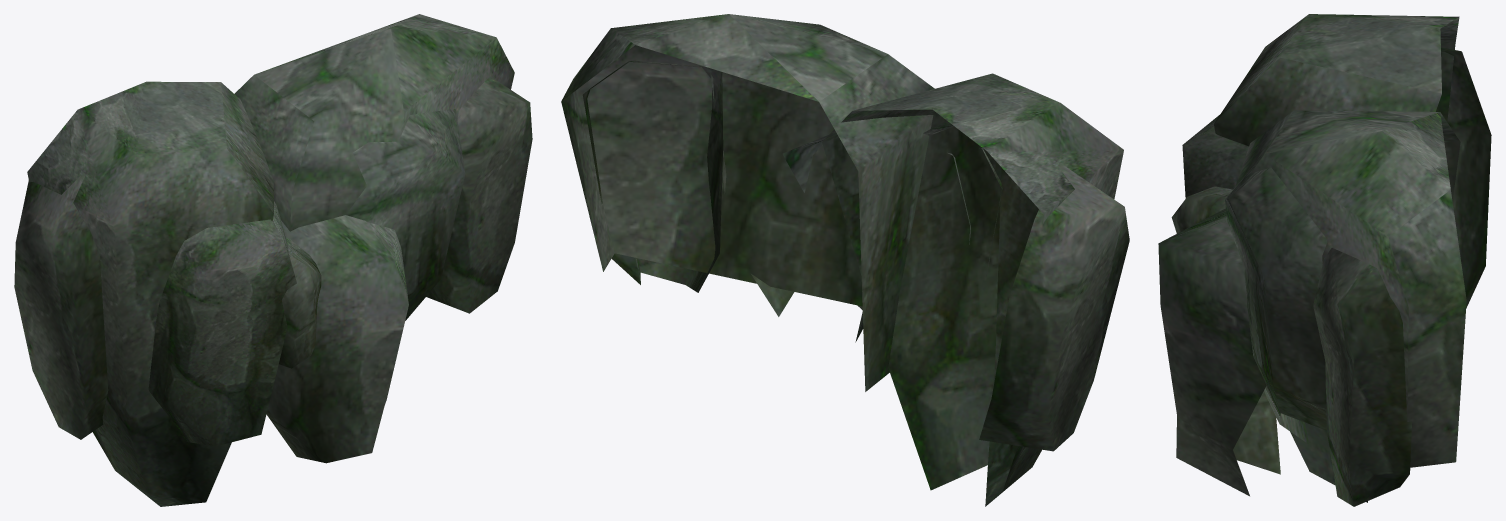
Rendered from yw_wuliangshan_yabianfengbian02.FBX.
The picture shows the model from 3 angles, left to right: view 1: azimuth 30°, elevation 25°; view 2: azimuth 150°, elevation 25°; view 3: azimuth 270°, elevation 25°; orthographic projection. The views are drawn at different scales.
Visible parts, largest first — view 1: yw_wuliangshan_yabianfengbian02; view 2: yw_wuliangshan_yabianfengbian02; view 3: yw_wuliangshan_yabianfengbian02.
Part boxes in pixels (<box>): yw_wuliangshan_yabianfengbian02: <box>14,14,532,506</box>; yw_wuliangshan_yabianfengbian02: <box>561,14,1129,506</box>; yw_wuliangshan_yabianfengbian02: <box>1158,14,1491,506</box>.
Bounding box in the file's own units: 276 × 222 × 139.
